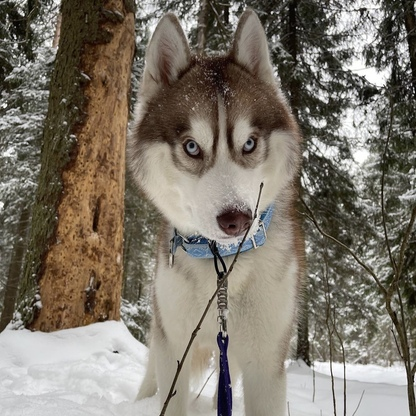husky: (118, 5, 315, 416)
